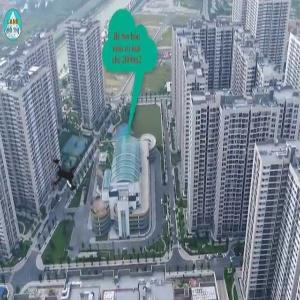drone: (28, 141, 100, 213)
